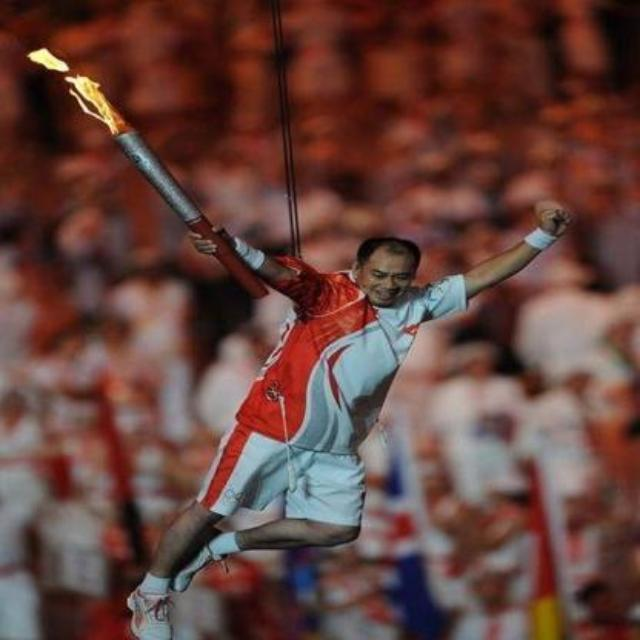Fire: (68, 76, 122, 134), (28, 46, 68, 74)
